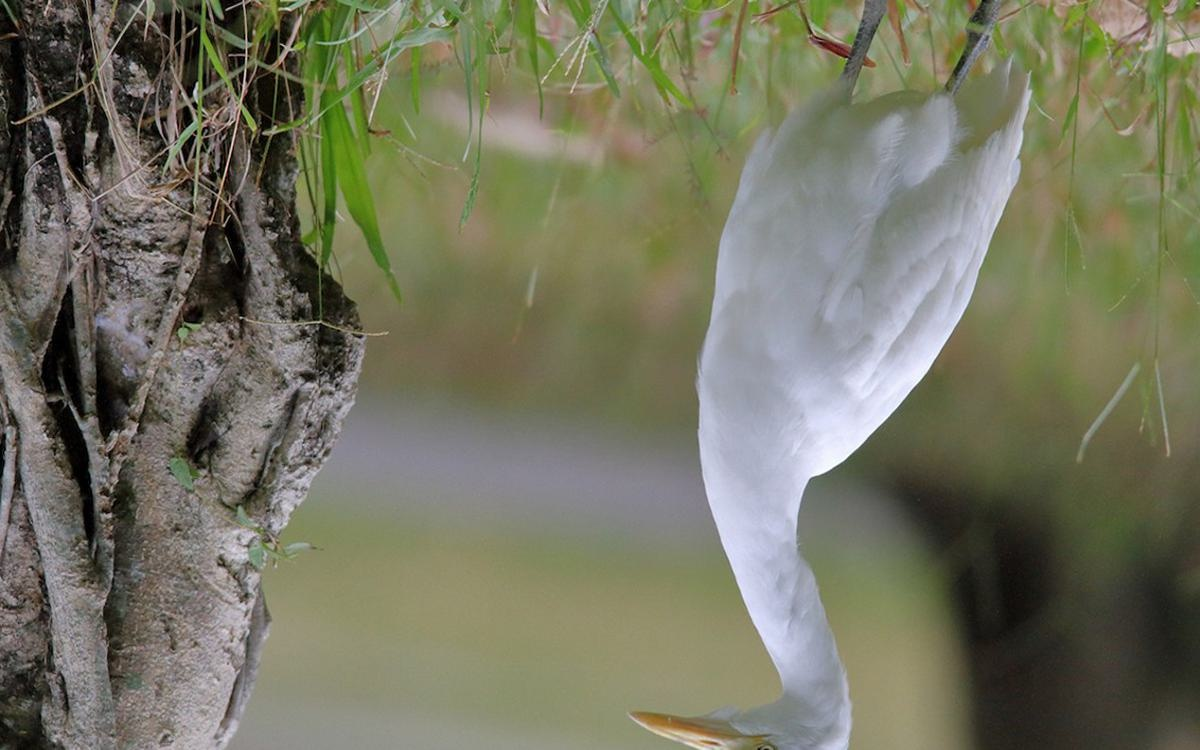egret: (630, 1, 1040, 746)
